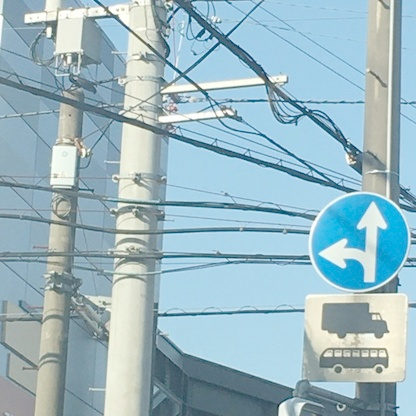Direction_sign: (292, 189, 416, 294)
